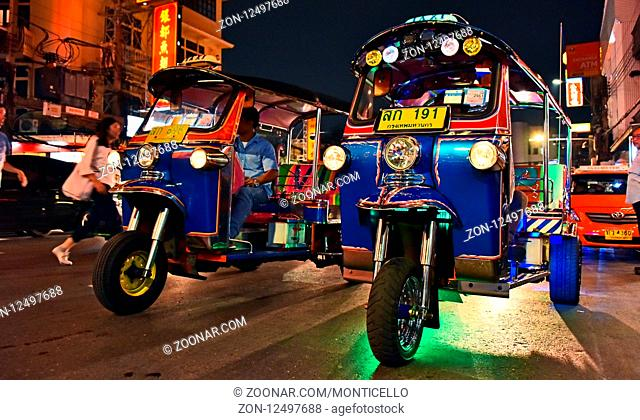car: (572, 150, 640, 262)
rickshaw: (333, 27, 589, 360), (107, 61, 335, 281)
